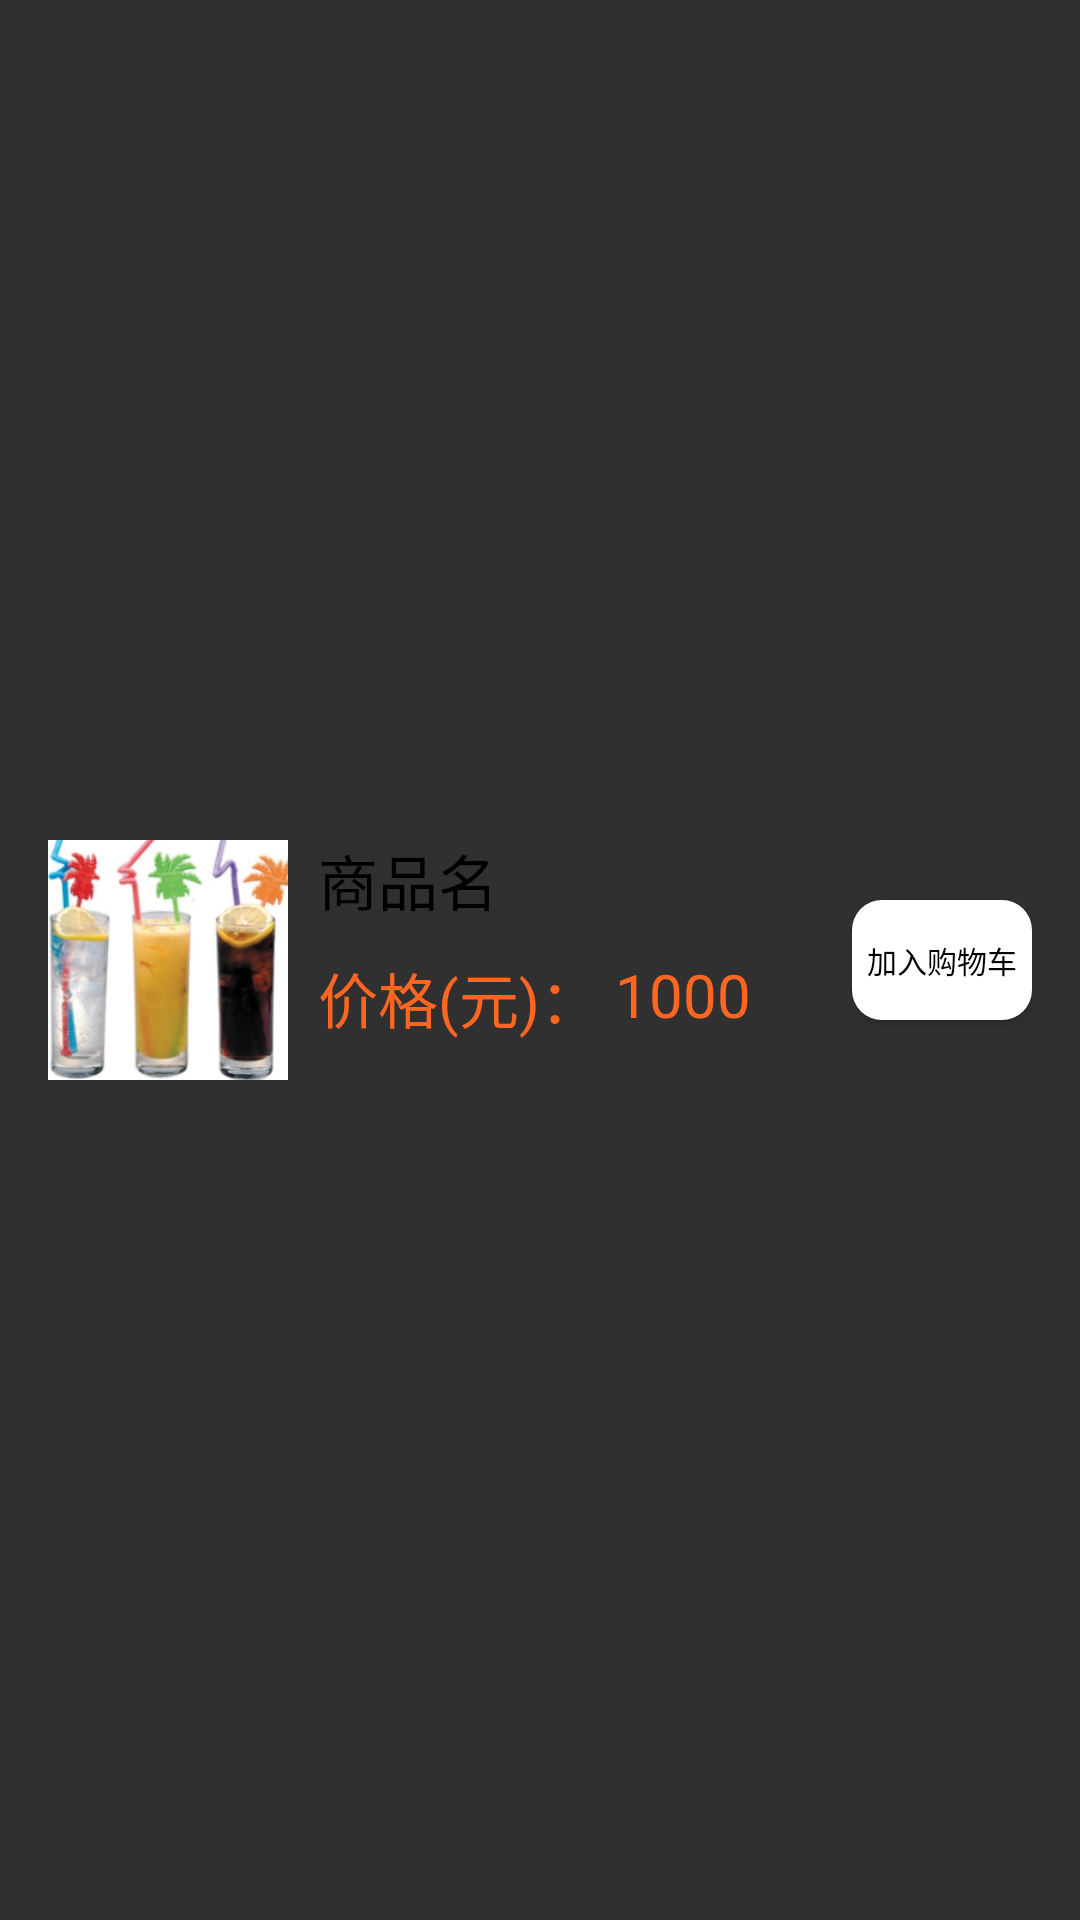

Screen size 1080*1920. Icon name, then its center in pixels as (x,y):
yinpin: (168,960)
